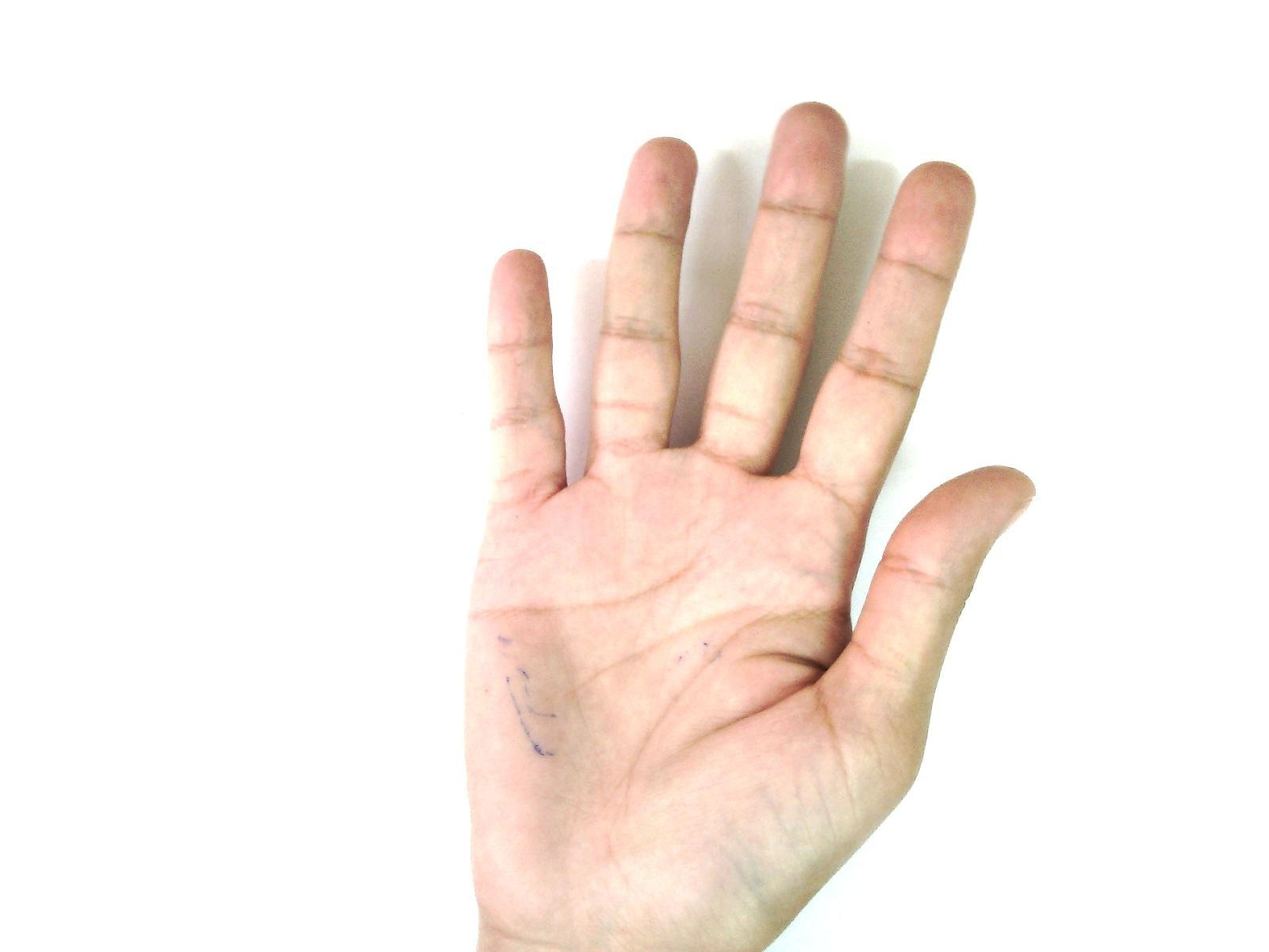open_palm: (459, 101, 1037, 951)
